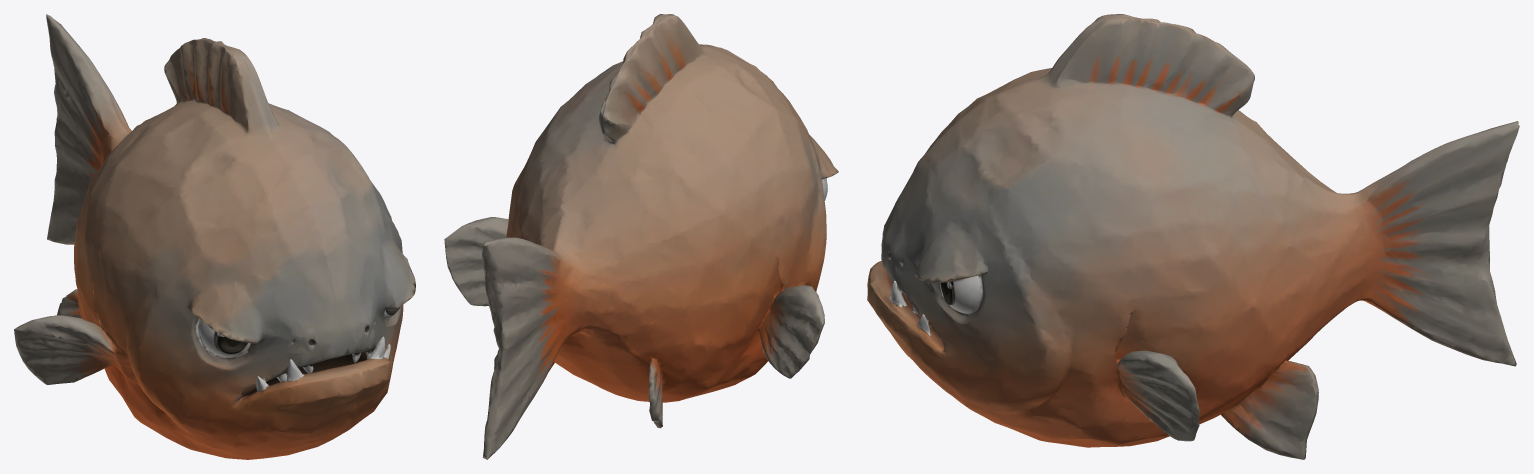
Rendered from nat_fish_piranha_v1.glb.
3 views of the same model, side by side, from view 1: azimuth 30°, elevation 25°; view 2: azimuth 150°, elevation 25°; view 3: azimuth 270°, elevation 25° (orthographic). The views are drawn at different scales.
Visible parts, largest first — view 1: tripo_node_788ef5a0-9833-4b03-a06f-a558611736a6; view 2: tripo_node_788ef5a0-9833-4b03-a06f-a558611736a6; view 3: tripo_node_788ef5a0-9833-4b03-a06f-a558611736a6.
Boxes of the visible parts, x1,y1,x2,y2 form: tripo_node_788ef5a0-9833-4b03-a06f-a558611736a6: [14, 14, 415, 459]; tripo_node_788ef5a0-9833-4b03-a06f-a558611736a6: [444, 14, 838, 459]; tripo_node_788ef5a0-9833-4b03-a06f-a558611736a6: [867, 14, 1519, 459].
Size of the model in its own units: 0.7201 by 0.6869 by 0.9804.
Materials: 1 (1 with a texture image).
